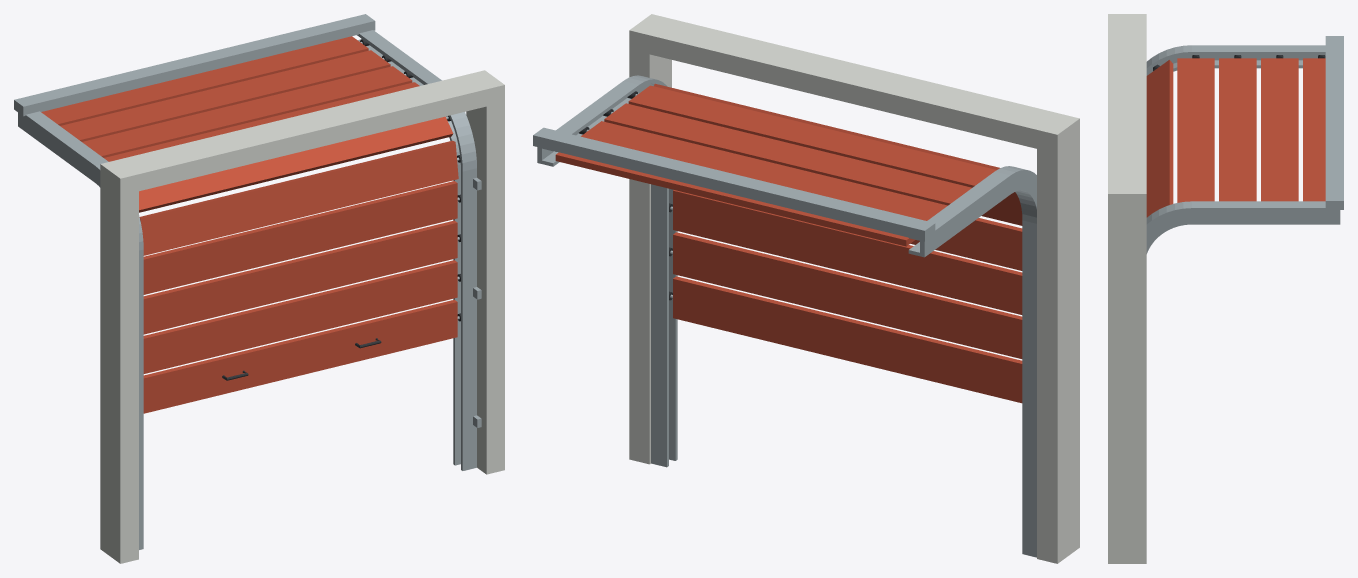
The picture shows the model from 3 angles, left to right: view 1: azimuth 30°, elevation 25°; view 2: azimuth 150°, elevation 25°; view 3: azimuth 270°, elevation 25°; orthographic projection. The views are drawn at different scales.
Parts seen in each view (by area): view 1: GroundedJamb-1, FullFrontHeader, ClosedDoorSection04, ClosedDoorSection02, ClosedDoorSection01, ClosedDoorSection03, ClosedDoorSection00, GroundedJamb1, WholeCurvedCTrack1, RearTrackCrossTie, ClosedDoorSection05, ClosedDoorSection07 (+4 smaller); view 2: GroundedJamb-1, FullFrontHeader, ClosedDoorSection00, ClosedDoorSection01, ClosedDoorSection02, WholeCurvedCTrack-1, WholeCurvedCTrack1, RearTrackCrossTie, ClosedDoorSection06, ClosedDoorSection07, GroundedJamb1, ClosedDoorSection08 (+4 smaller); view 3: GroundedJamb1, FullFrontHeader, ClosedDoorSection06, ClosedDoorSection07, ClosedDoorSection08, WholeCurvedCTrack1, ClosedDoorSection05, ClosedDoorSection09, RearTrackCrossTie, WholeCurvedCTrack-1, GroundedJamb-1.
Part boxes in pixels (box(x1,y1,x2,y2)): GroundedJamb-1: box(100, 159, 138, 563); FullFrontHeader: box(119, 74, 486, 191); ClosedDoorSection04: box(139, 140, 458, 255); ClosedDoorSection02: box(143, 220, 457, 334); ClosedDoorSection01: box(143, 260, 457, 373); ClosedDoorSection03: box(143, 181, 457, 294); ClosedDoorSection00: box(143, 299, 457, 413); GroundedJamb1: box(466, 70, 504, 474); WholeCurvedCTrack1: box(357, 30, 476, 470); RearTrackCrossTie: box(14, 14, 375, 116); ClosedDoorSection05: box(139, 116, 453, 212); ClosedDoorSection07: box(82, 66, 412, 157); GroundedJamb-1: box(1037, 113, 1079, 563); FullFrontHeader: box(649, 19, 1058, 148); ClosedDoorSection00: box(673, 276, 1022, 403); ClosedDoorSection01: box(673, 232, 1022, 358); ClosedDoorSection02: box(673, 190, 1022, 314); WholeCurvedCTrack-1: box(908, 166, 1036, 557); WholeCurvedCTrack1: box(537, 75, 677, 467); RearTrackCrossTie: box(533, 127, 935, 241); ClosedDoorSection06: box(628, 85, 996, 187); ClosedDoorSection07: box(604, 103, 971, 205); GroundedJamb1: box(629, 14, 671, 464); ClosedDoorSection08: box(581, 121, 947, 220); GroundedJamb1: box(1108, 185, 1146, 563); FullFrontHeader: box(1108, 22, 1146, 185); ClosedDoorSection06: box(1177, 58, 1214, 202); ClosedDoorSection07: box(1219, 58, 1256, 201); ClosedDoorSection08: box(1261, 58, 1298, 201); WholeCurvedCTrack1: box(1146, 201, 1340, 253); ClosedDoorSection05: box(1146, 60, 1173, 217); ClosedDoorSection09: box(1303, 58, 1325, 201); RearTrackCrossTie: box(1325, 36, 1343, 209); WholeCurvedCTrack-1: box(1146, 45, 1325, 75); GroundedJamb-1: box(1108, 14, 1146, 22).
Bounding box in the file's own units: 3.76 × 3.6 × 2.08.
